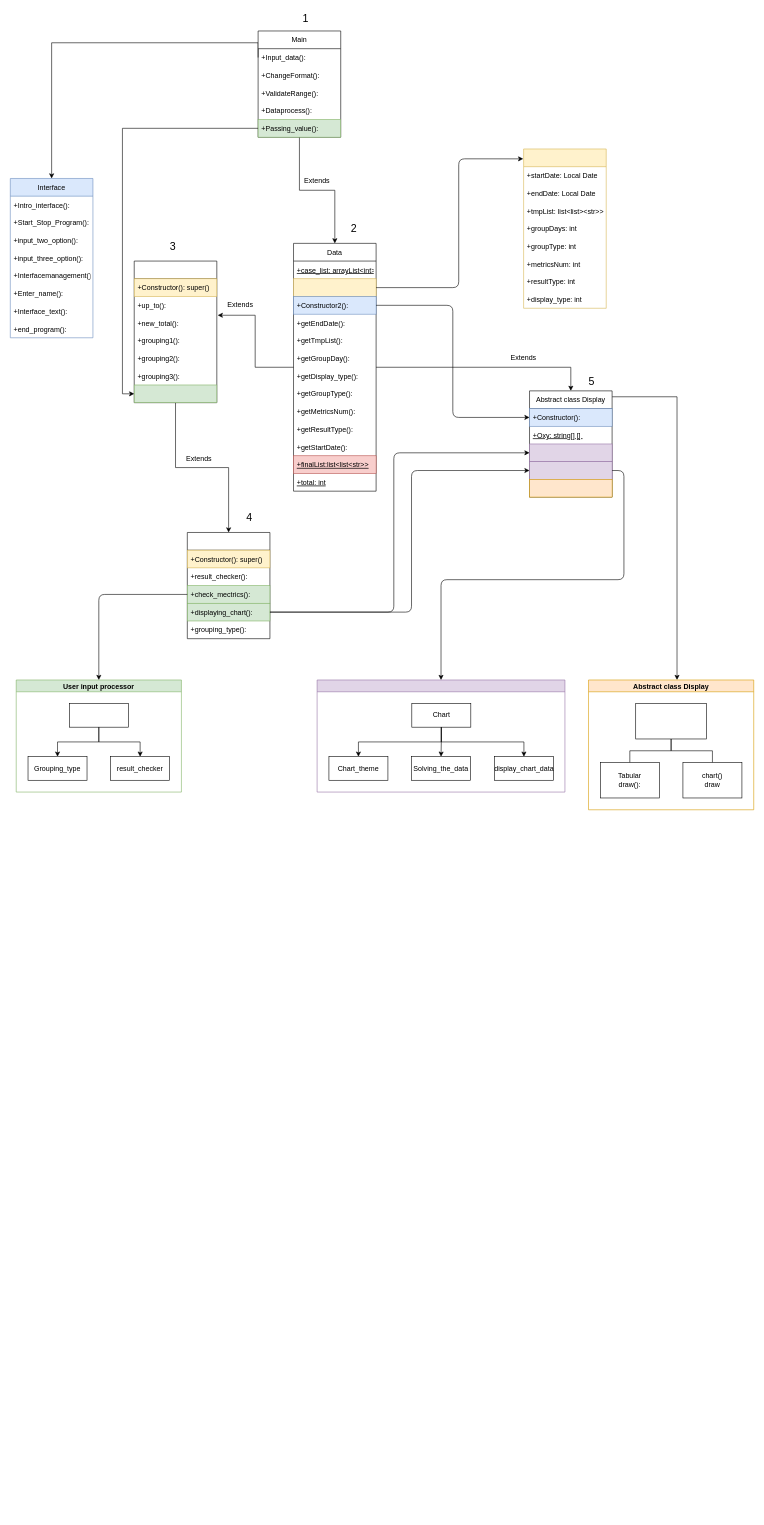
Some shapes in this 764 by 1525 pixel diagram are drawn without their labels. The shapes that lost their labels are listed below. From the top down, each one's box as (x1, y1, x2, y2) in pixels, then its label:
(523, 148, 606, 308): Attributes
(293, 278, 376, 296): +Constructor1():
(134, 260, 217, 403): data_display
(134, 384, 217, 403): +dataGroup():
(529, 443, 612, 462): +tabular{}
(529, 461, 612, 479): +chart{}
(529, 479, 612, 497): +void draw():
(187, 532, 270, 639): get_types
(69, 703, 128, 727): Check_metrics
(635, 703, 707, 739): Display draw():
(317, 679, 565, 792): Chart drawing
